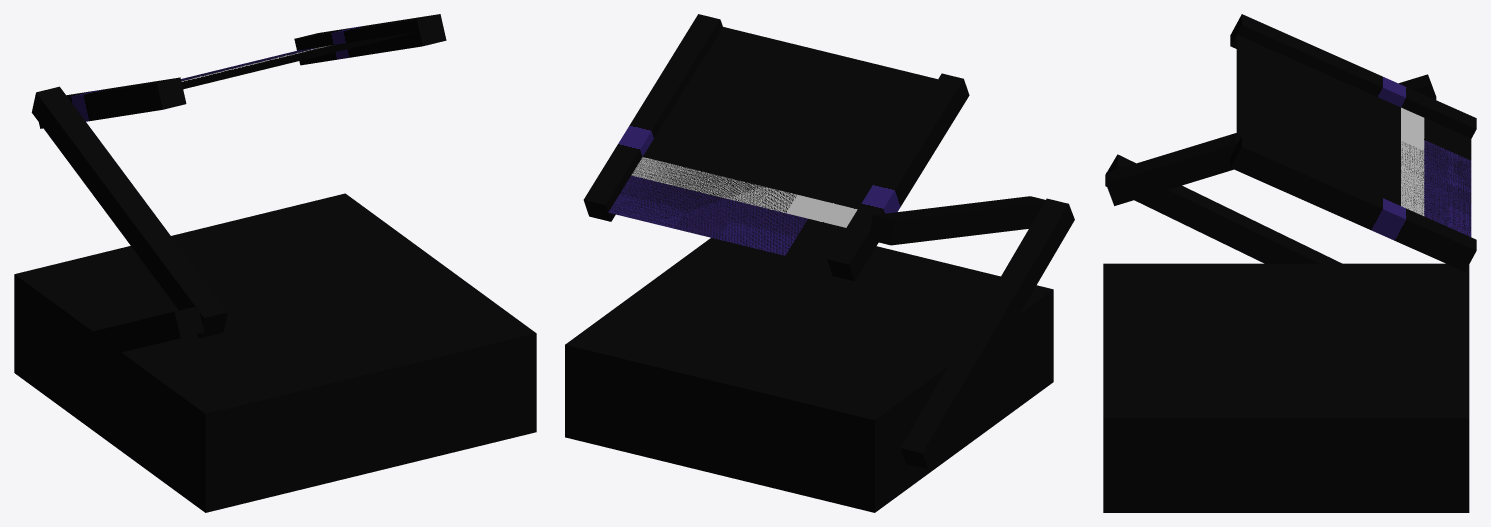
The model's file is seed_analyzer.obj.
3 views of the same model, side by side, from view 1: azimuth 30°, elevation 25°; view 2: azimuth 150°, elevation 25°; view 3: azimuth 270°, elevation 25° (orthographic). The views are drawn at different scales.
Parts seen in each view (by area): view 1: base, stick2, stick1, frame1, frame2, window; view 2: base, window, stick1, frame2, frame1, stick2; view 3: base, window, frame1, stick1, frame2, stick2.
Boxes of the visible parts, <box> form: base: <box>14,193,536,512</box>; stick2: <box>31,86,227,338</box>; stick1: <box>18,306,204,375</box>; frame1: <box>294,14,446,65</box>; frame2: <box>39,77,186,128</box>; window: <box>181,32,417,89</box>; base: <box>565,238,1053,512</box>; window: <box>608,27,937,266</box>; stick1: <box>900,198,1074,469</box>; frame2: <box>827,73,969,281</box>; frame1: <box>583,14,722,221</box>; stick2: <box>869,196,1045,245</box>; base: <box>1103,263,1469,512</box>; window: <box>1236,35,1471,236</box>; frame1: <box>1230,135,1476,271</box>; stick1: <box>1105,154,1341,263</box>; frame2: <box>1230,14,1476,138</box>; stick2: <box>1106,74,1436,205</box>.
Bounding box in the file's own units: 0.9375 × 0.9375 × 0.8925.
